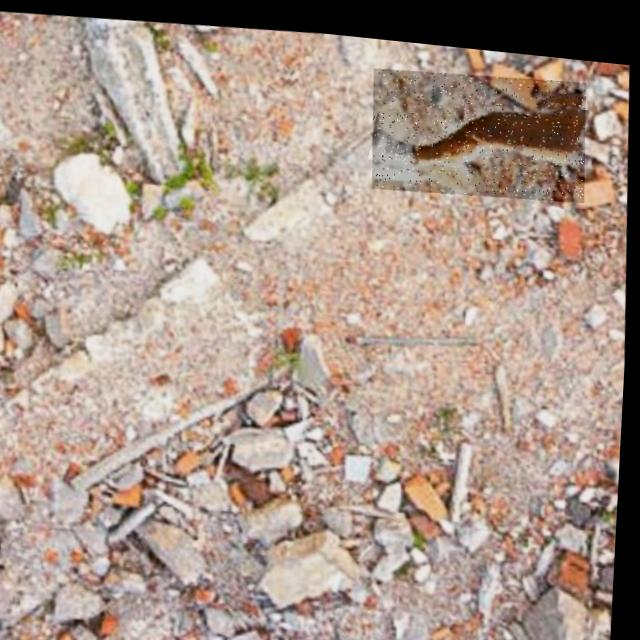Person in Rubble: (368, 52, 589, 197)
